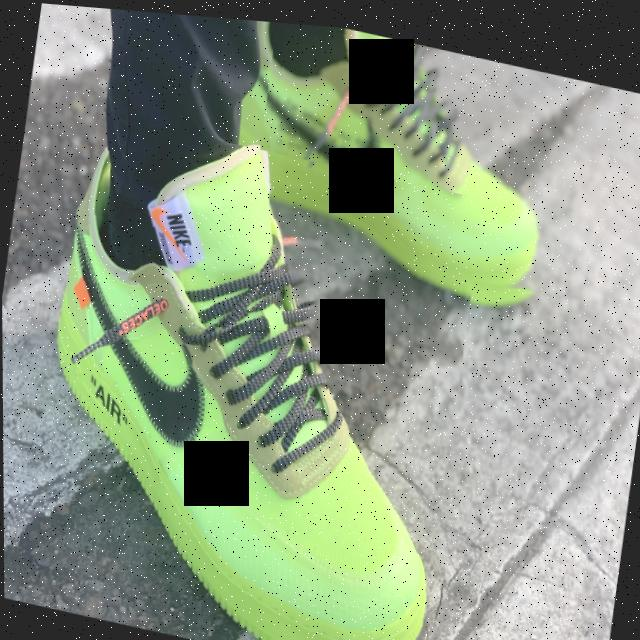shoe: (1, 101, 487, 640), (246, 16, 625, 308)
